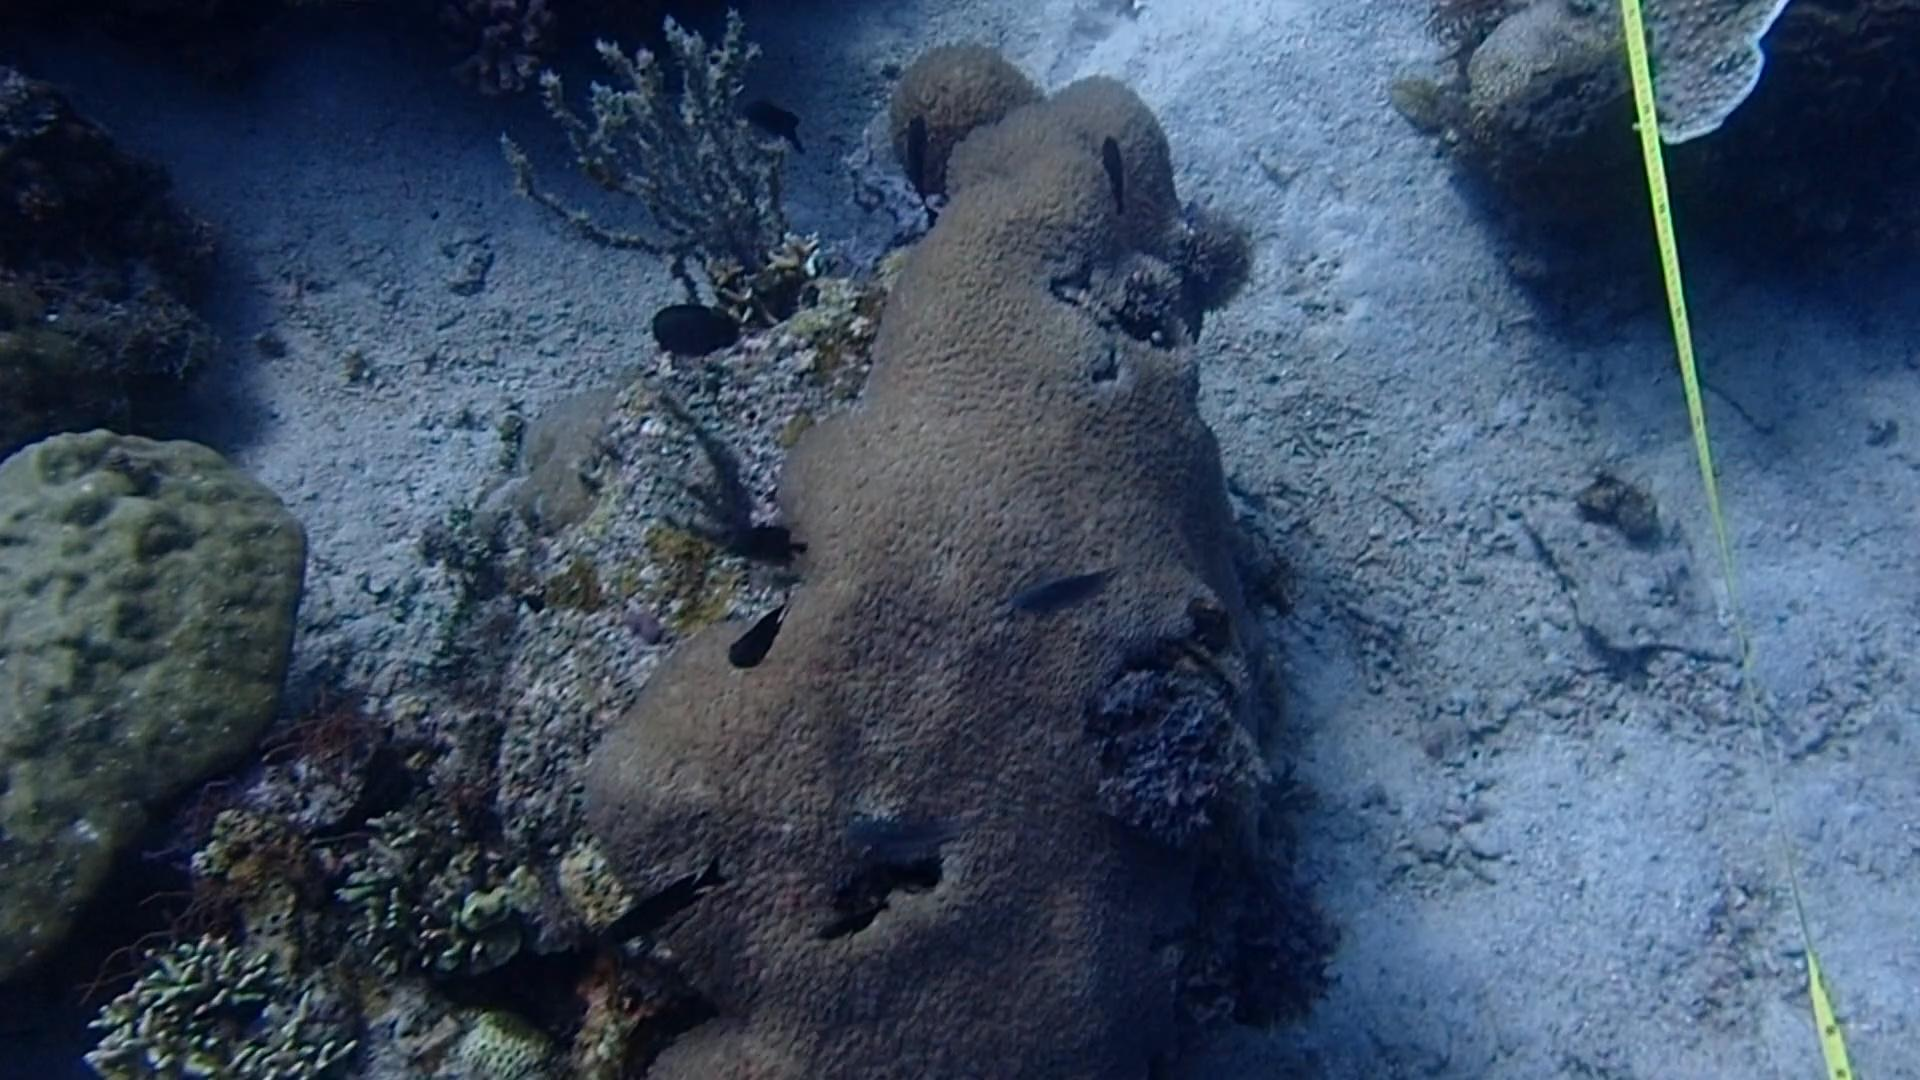Dark Fish: (591, 848, 736, 959), (717, 74, 820, 165), (878, 98, 960, 198), (713, 504, 816, 576), (1087, 111, 1153, 203), (712, 605, 789, 670)
Light Fish: (828, 791, 985, 868), (1002, 546, 1125, 634)
